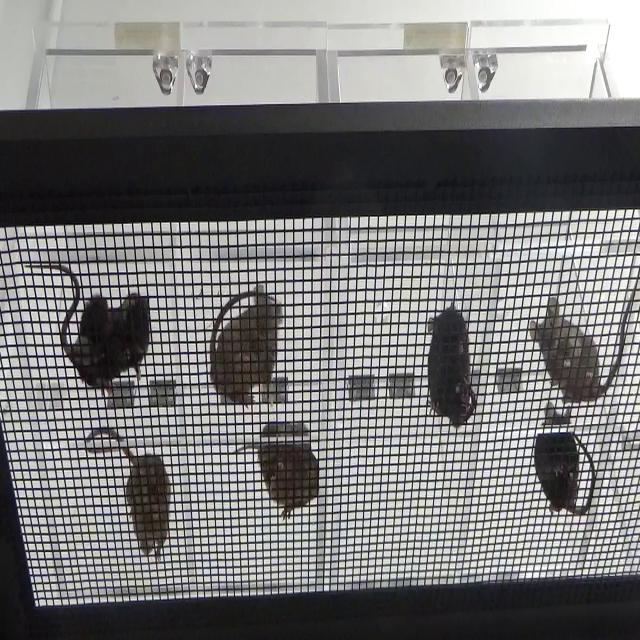lick tail: (424, 292, 485, 448)
scratch: (22, 248, 160, 399)
